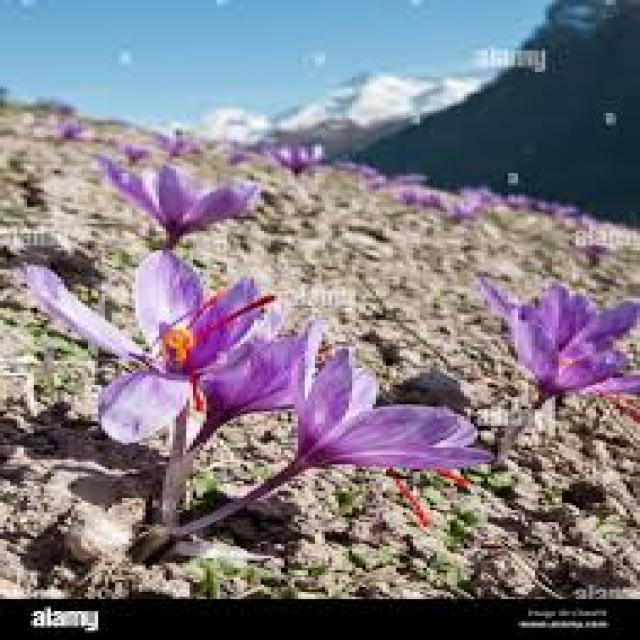Flower: (34, 247, 316, 467), (292, 322, 508, 500), (45, 126, 296, 244), (477, 269, 640, 406)
stigma: (196, 290, 277, 342), (384, 462, 431, 528)
